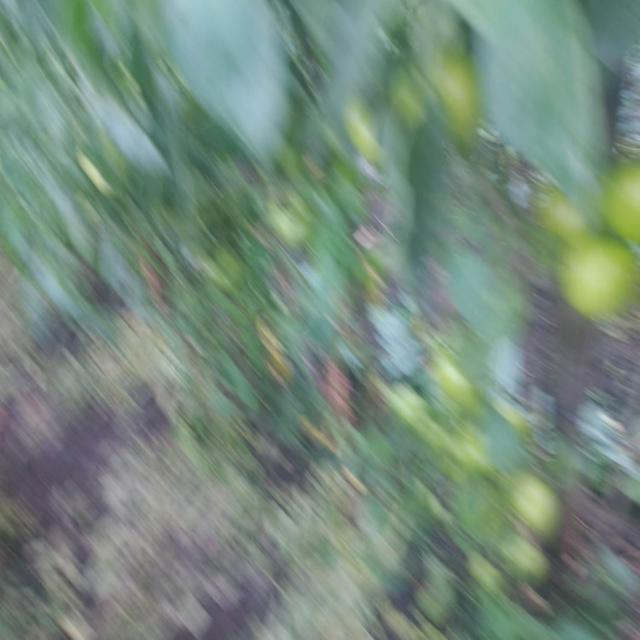tomato: (563, 235, 640, 317), (605, 152, 640, 248), (537, 192, 594, 243), (516, 477, 562, 539), (345, 108, 388, 170), (446, 63, 471, 141), (264, 204, 306, 250), (509, 534, 550, 579), (442, 370, 477, 407), (395, 86, 421, 123)
